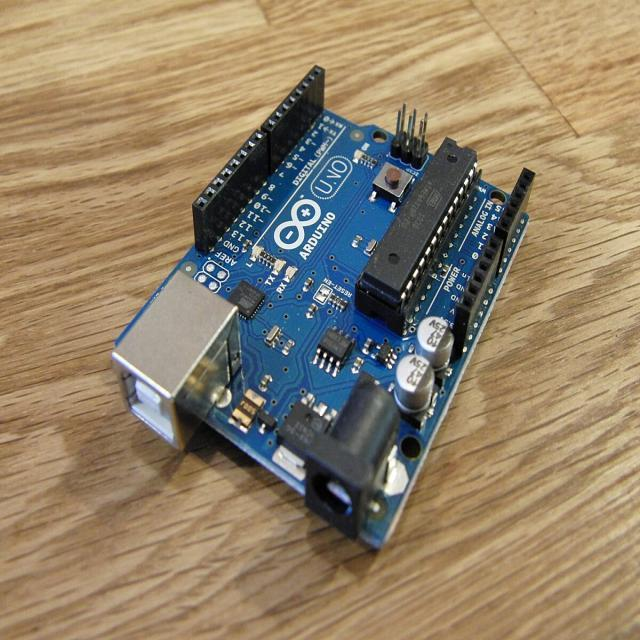Arduino: (64, 42, 586, 597)
